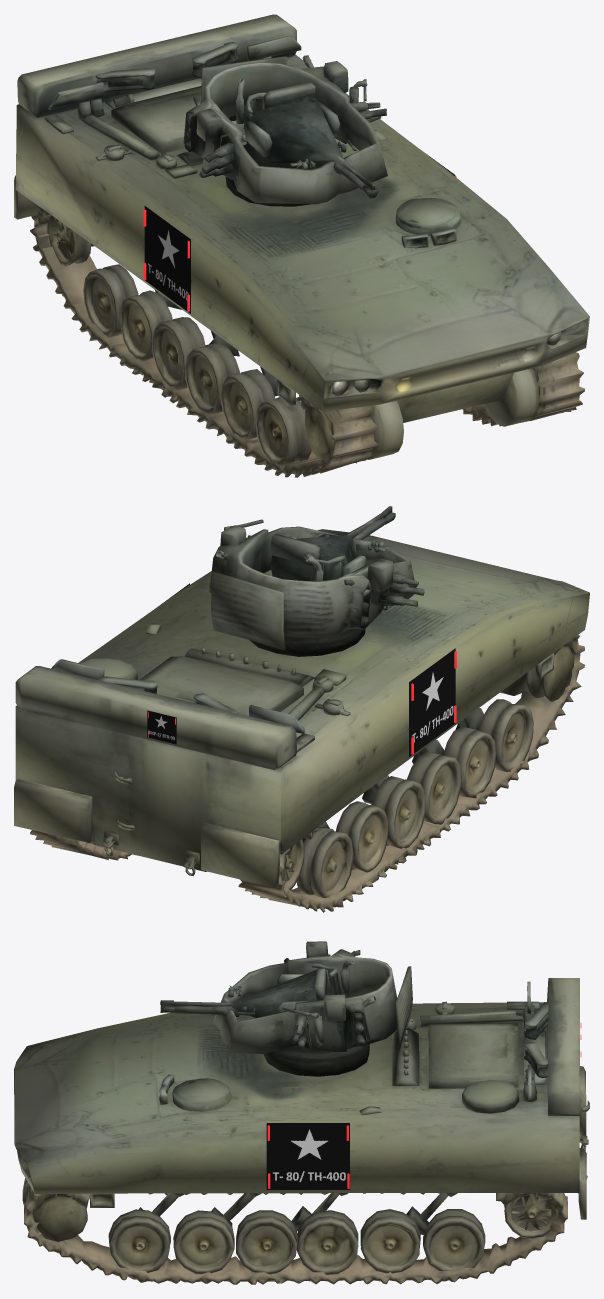
The model's file is OP4_veh_with_no_flag_1_x_Lives.glb.
3 renders of one model, top to bottom at view 1: azimuth 30°, elevation 25°; view 2: azimuth 150°, elevation 25°; view 3: azimuth 270°, elevation 25°, orthographic. The views are drawn at different scales.
Visible parts, largest first — view 1: tripo_node_b858fb1a.002, tripo_node_b858fb1a.004, Plane.005; view 2: tripo_node_b858fb1a.002, tripo_node_b858fb1a.004, Plane.005, Plane.007; view 3: tripo_node_b858fb1a.002, tripo_node_b858fb1a.004, Plane.006.
Part boxes in pixels (x1,y1,x2,y2): tripo_node_b858fb1a.002: [14, 14, 589, 477]; tripo_node_b858fb1a.004: [183, 55, 387, 206]; Plane.005: [143, 206, 190, 313]; tripo_node_b858fb1a.002: [14, 529, 589, 912]; tripo_node_b858fb1a.004: [209, 506, 424, 656]; Plane.005: [409, 648, 455, 756]; Plane.007: [147, 710, 176, 744]; tripo_node_b858fb1a.002: [14, 978, 589, 1284]; tripo_node_b858fb1a.004: [160, 941, 412, 1076]; Plane.006: [266, 1123, 349, 1189].
Size of the model in its own units: 1.36 by 1.37 by 2.8.
Materials: 5 (4 with a texture image).
